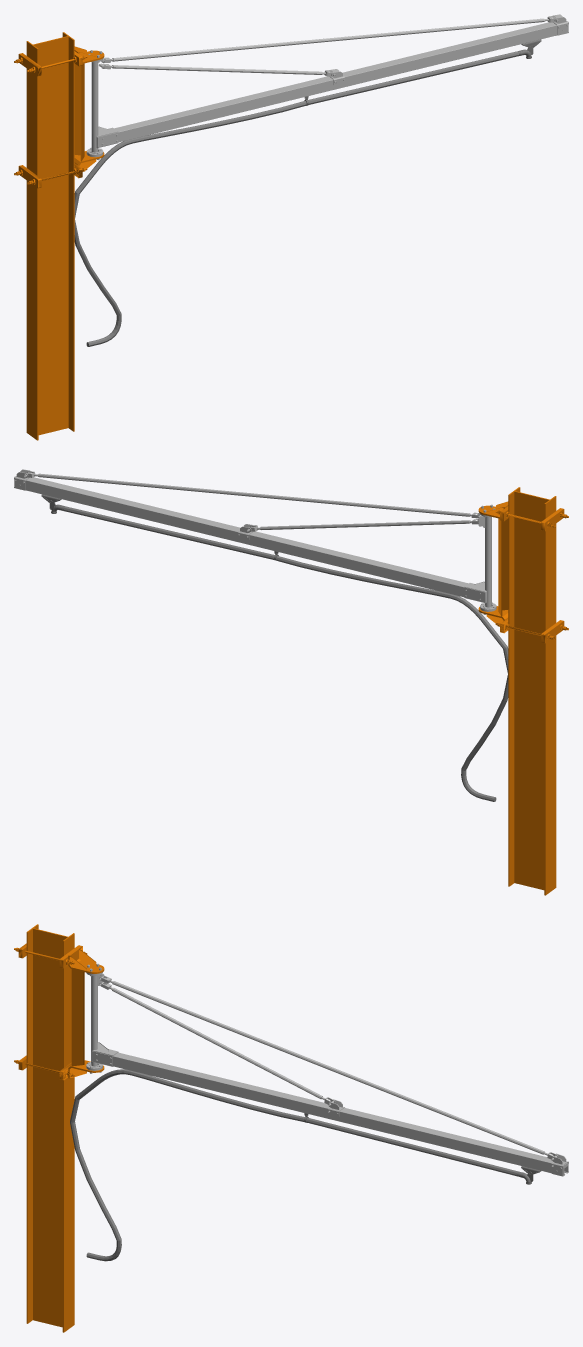
File: aardwolf_all_part_WALL BRACED JIB CRANE 5M 250KG@p1_-200_0_0#p2_5138_0_2748.fbx
3 renders of one model, top to bottom at view 1: azimuth 30°, elevation 25°; view 2: azimuth 150°, elevation 25°; view 3: azimuth 330°, elevation 25°, orthographic.
Visible parts, largest first — view 1: Object052 (×2), aardwolf_all_part_obj221, aardwolf_all_part_obj138; view 2: Object052 (×2), aardwolf_all_part_obj221, aardwolf_all_part_obj138; view 3: Object052 (×2), aardwolf_all_part_obj221, aardwolf_all_part_obj138.
Part boxes in pixels (x1=…): Object052 (×2): x1=14, y1=32, x2=104, y2=440; aardwolf_all_part_obj221: x1=86, y1=14, x2=568, y2=160; aardwolf_all_part_obj138: x1=74, y1=51, x2=518, y2=346; Object052 (×2): x1=478, y1=487, x2=568, y2=895; aardwolf_all_part_obj221: x1=14, y1=469, x2=496, y2=614; aardwolf_all_part_obj138: x1=63, y1=506, x2=508, y2=801; Object052 (×2): x1=14, y1=924, x2=104, y2=1332; aardwolf_all_part_obj221: x1=86, y1=963, x2=568, y2=1176; aardwolf_all_part_obj138: x1=70, y1=1069, x2=518, y2=1261.
Size of the model in its own units: 5831 by 4000 by 360.
